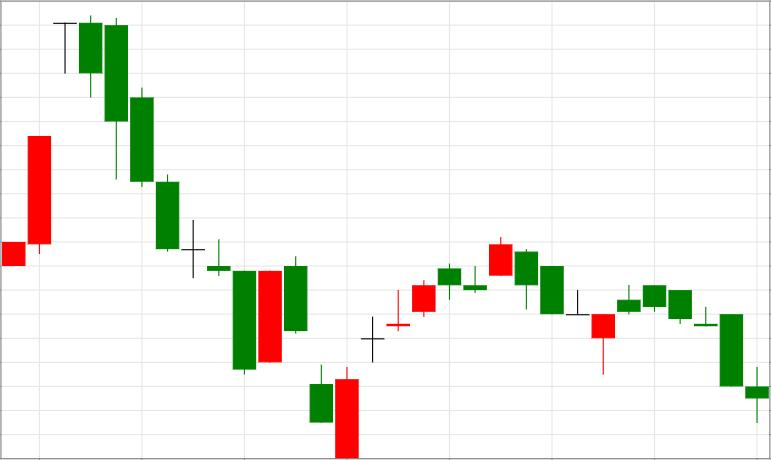hammer_rise: (489, 236, 614, 374)
